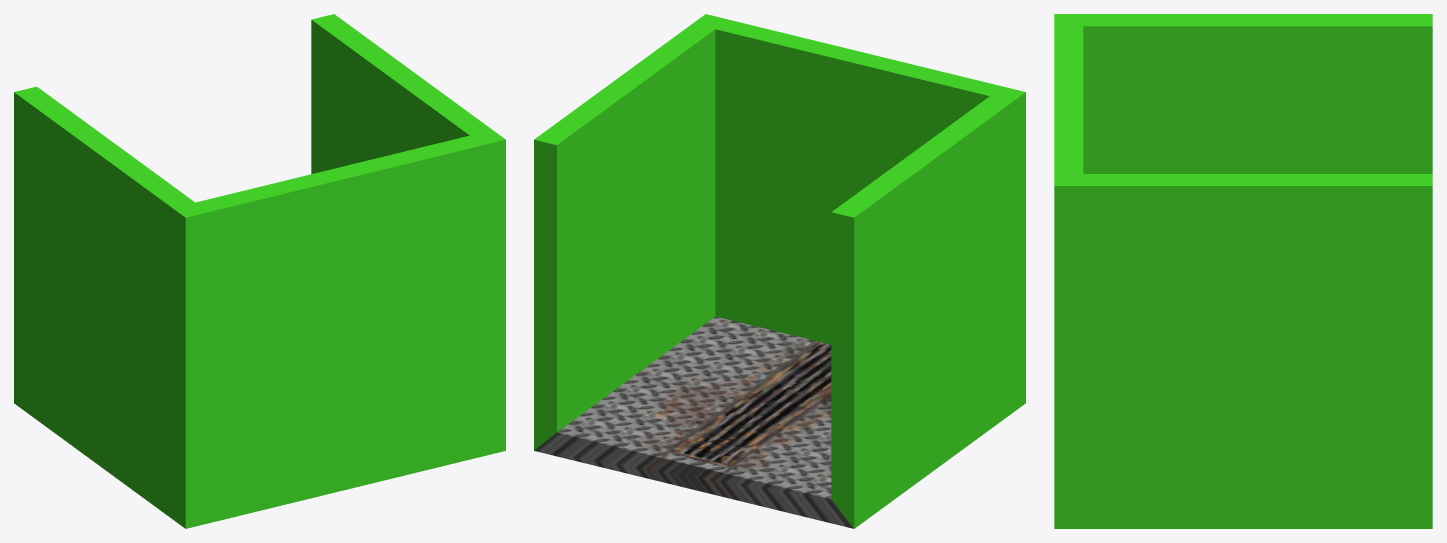
File: FloorTile.005.fbx
The picture shows the model from 3 angles, left to right: view 1: azimuth 30°, elevation 25°; view 2: azimuth 150°, elevation 25°; view 3: azimuth 270°, elevation 25°; orthographic projection. The views are drawn at different scales.
Visible parts, largest first — view 1: FloorTile.005; view 2: FloorTile.005; view 3: FloorTile.005.
Part boxes in pixels (box(x1,y1,x2,y2)): FloorTile.005: box(14, 14, 505, 528); FloorTile.005: box(534, 14, 1025, 528); FloorTile.005: box(1054, 14, 1432, 528).
Bounding box in the file's own units: 700 × 650 × 650.
